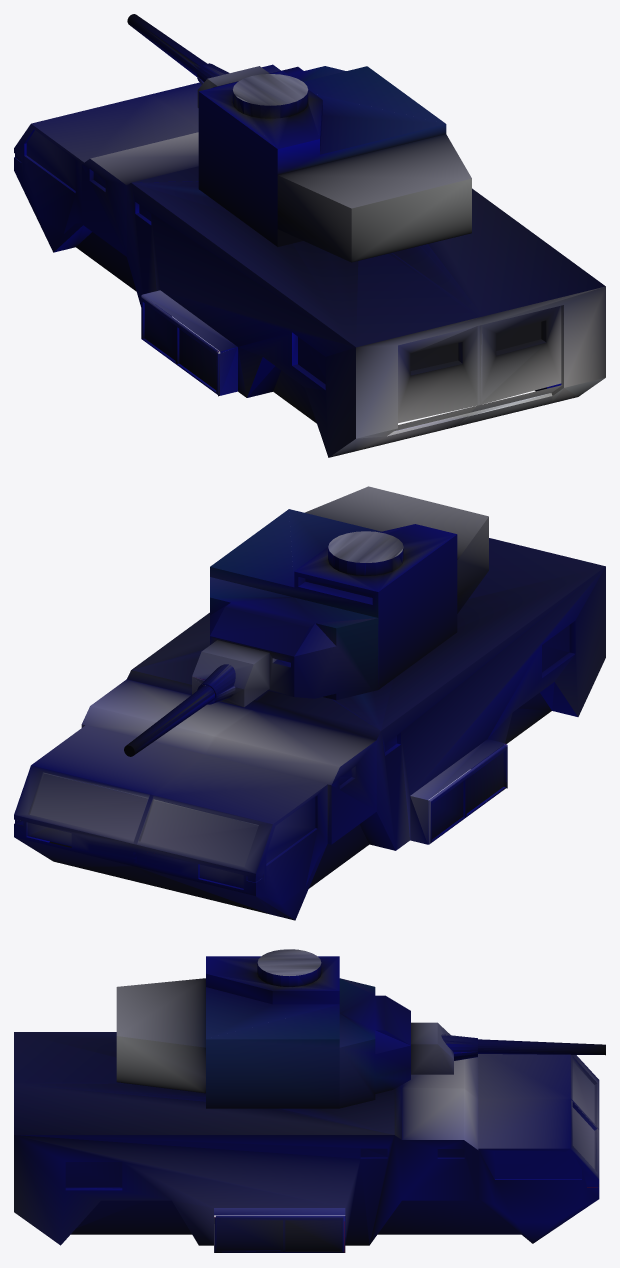
The model's file is auto3.fbx.
3 renders of one model, top to bottom at view 1: azimuth 30°, elevation 25°; view 2: azimuth 150°, elevation 25°; view 3: azimuth 270°, elevation 25°, orthographic. The views are drawn at different scales.
Parts seen in each view (by area): view 1: Camera_001; view 2: Camera_001; view 3: Camera_001.
Boxes of the visible parts, left/top/right/bottom form: Camera_001: left=14, top=14, right=605, bottom=457; Camera_001: left=14, top=486, right=605, bottom=920; Camera_001: left=14, top=949, right=605, bottom=1252.
Bounding box in the file's own units: 9.43 × 7.78 × 19.73.
